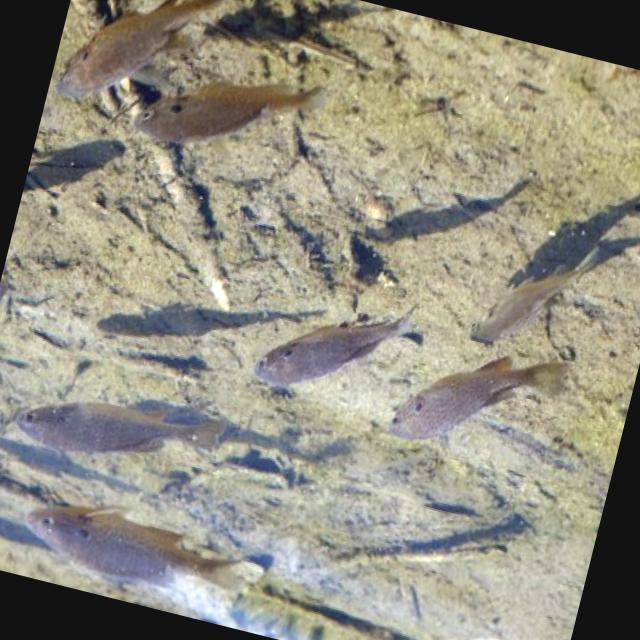Gunes Levregi: (1, 348, 238, 494)
